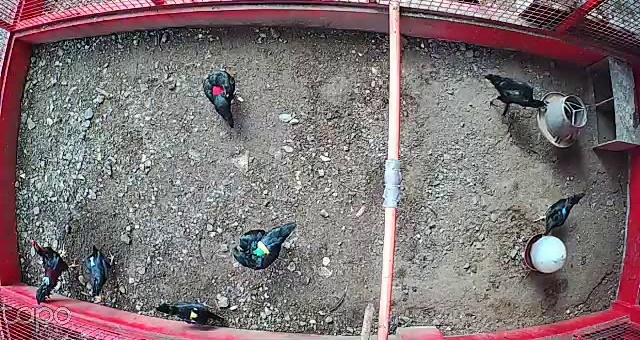Chicken: (230, 220, 295, 271), (482, 72, 550, 120), (531, 188, 586, 238), (202, 65, 241, 129), (156, 298, 230, 328), (82, 243, 116, 301)
Rooster: (25, 237, 82, 302)
Saddle_Color_Blue: (562, 208, 567, 216)
Saddle_Color_Red: (210, 85, 224, 94)
Saddle_Color_Yellow: (190, 309, 200, 321)
Saddle_Color_YellowGreen: (251, 240, 271, 258)
